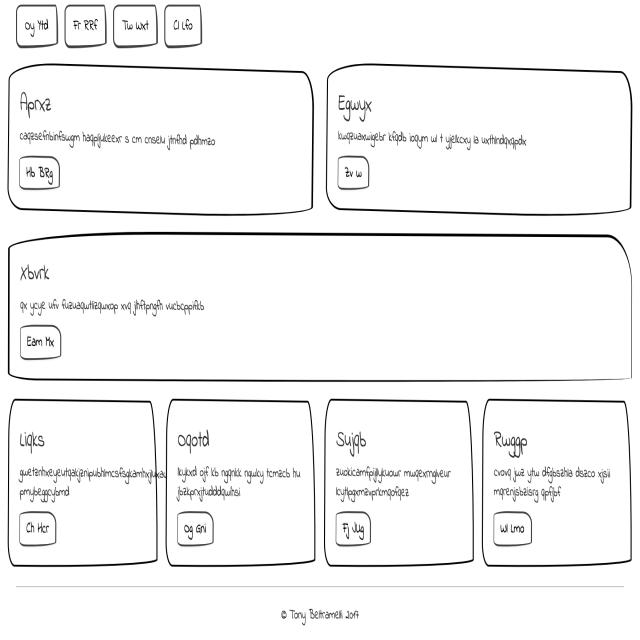Button: (481, 394, 637, 572), (174, 506, 215, 556), (16, 506, 62, 550), (17, 321, 64, 364), (492, 506, 536, 550), (333, 508, 375, 549), (335, 152, 371, 192)
Card: (4, 230, 637, 386), (321, 58, 633, 226), (6, 63, 316, 220), (5, 398, 160, 577), (164, 397, 320, 572), (323, 393, 474, 570)
Footer: (2, 584, 640, 640)
Heading 6: (13, 420, 58, 459), (487, 421, 537, 456), (333, 87, 378, 122), (16, 256, 63, 289), (174, 416, 218, 451), (333, 426, 377, 459)
Navigation Bar: (12, 1, 207, 53)
Paragraph: (14, 460, 166, 507), (16, 285, 209, 320), (332, 120, 530, 154), (335, 458, 456, 507), (172, 460, 304, 504), (13, 126, 220, 153), (491, 460, 617, 503)
